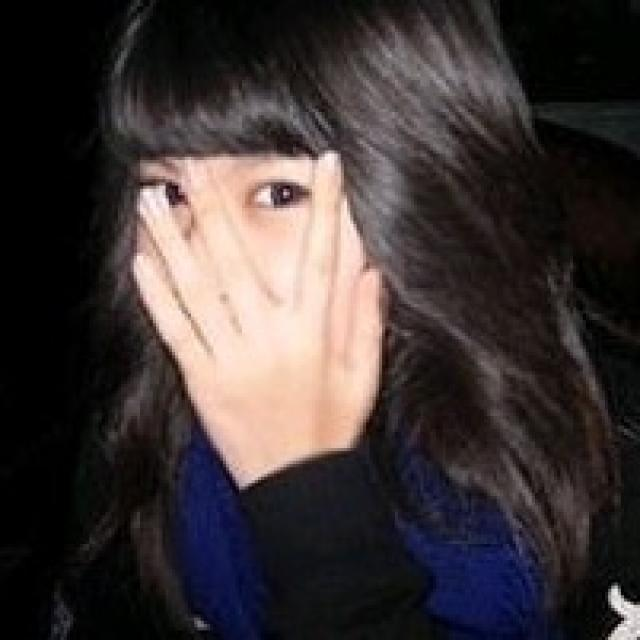nomask: (130, 85, 372, 408)
